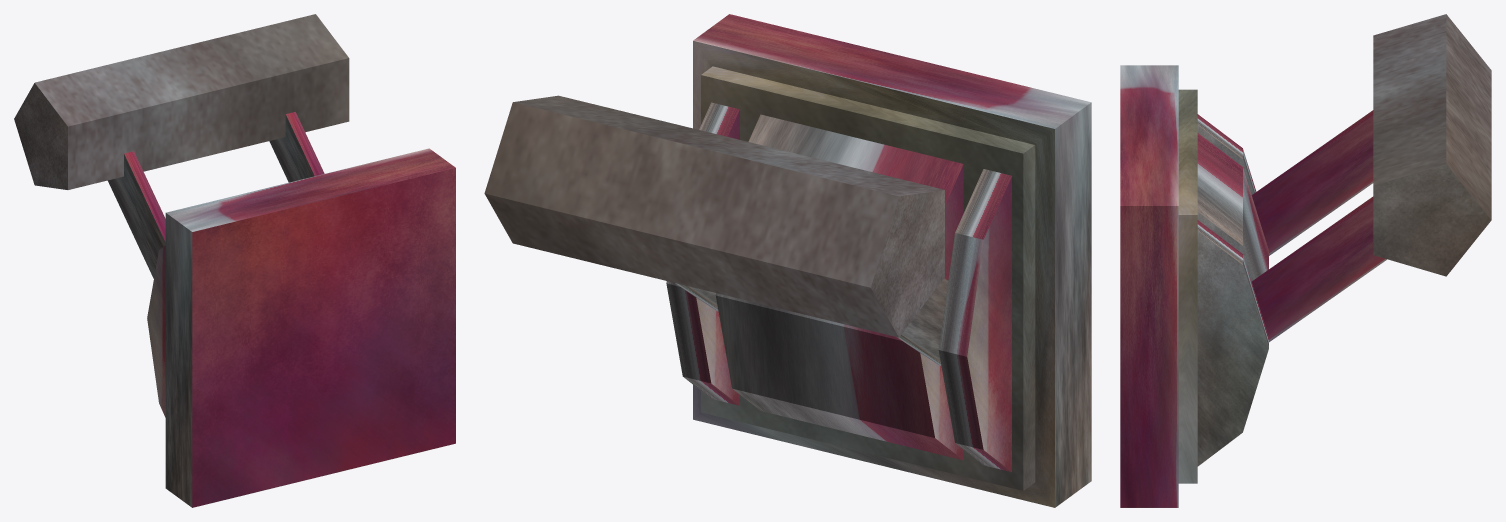
Rendered from lever.fbx.
3 views of the same model, side by side, from view 1: azimuth 30°, elevation 25°; view 2: azimuth 150°, elevation 25°; view 3: azimuth 270°, elevation 25° (orthographic). The views are drawn at different scales.
Parts seen in each view (by area): view 1: lever; view 2: lever; view 3: lever.
Boxes of the visible parts, x1,y1,x2,y2 form: lever: [14, 14, 455, 507]; lever: [484, 14, 1091, 507]; lever: [1120, 14, 1491, 507].
Bounding box in the file's own units: 0.6058 × 0.6556 × 0.6325.
1 material, 1 textured.
